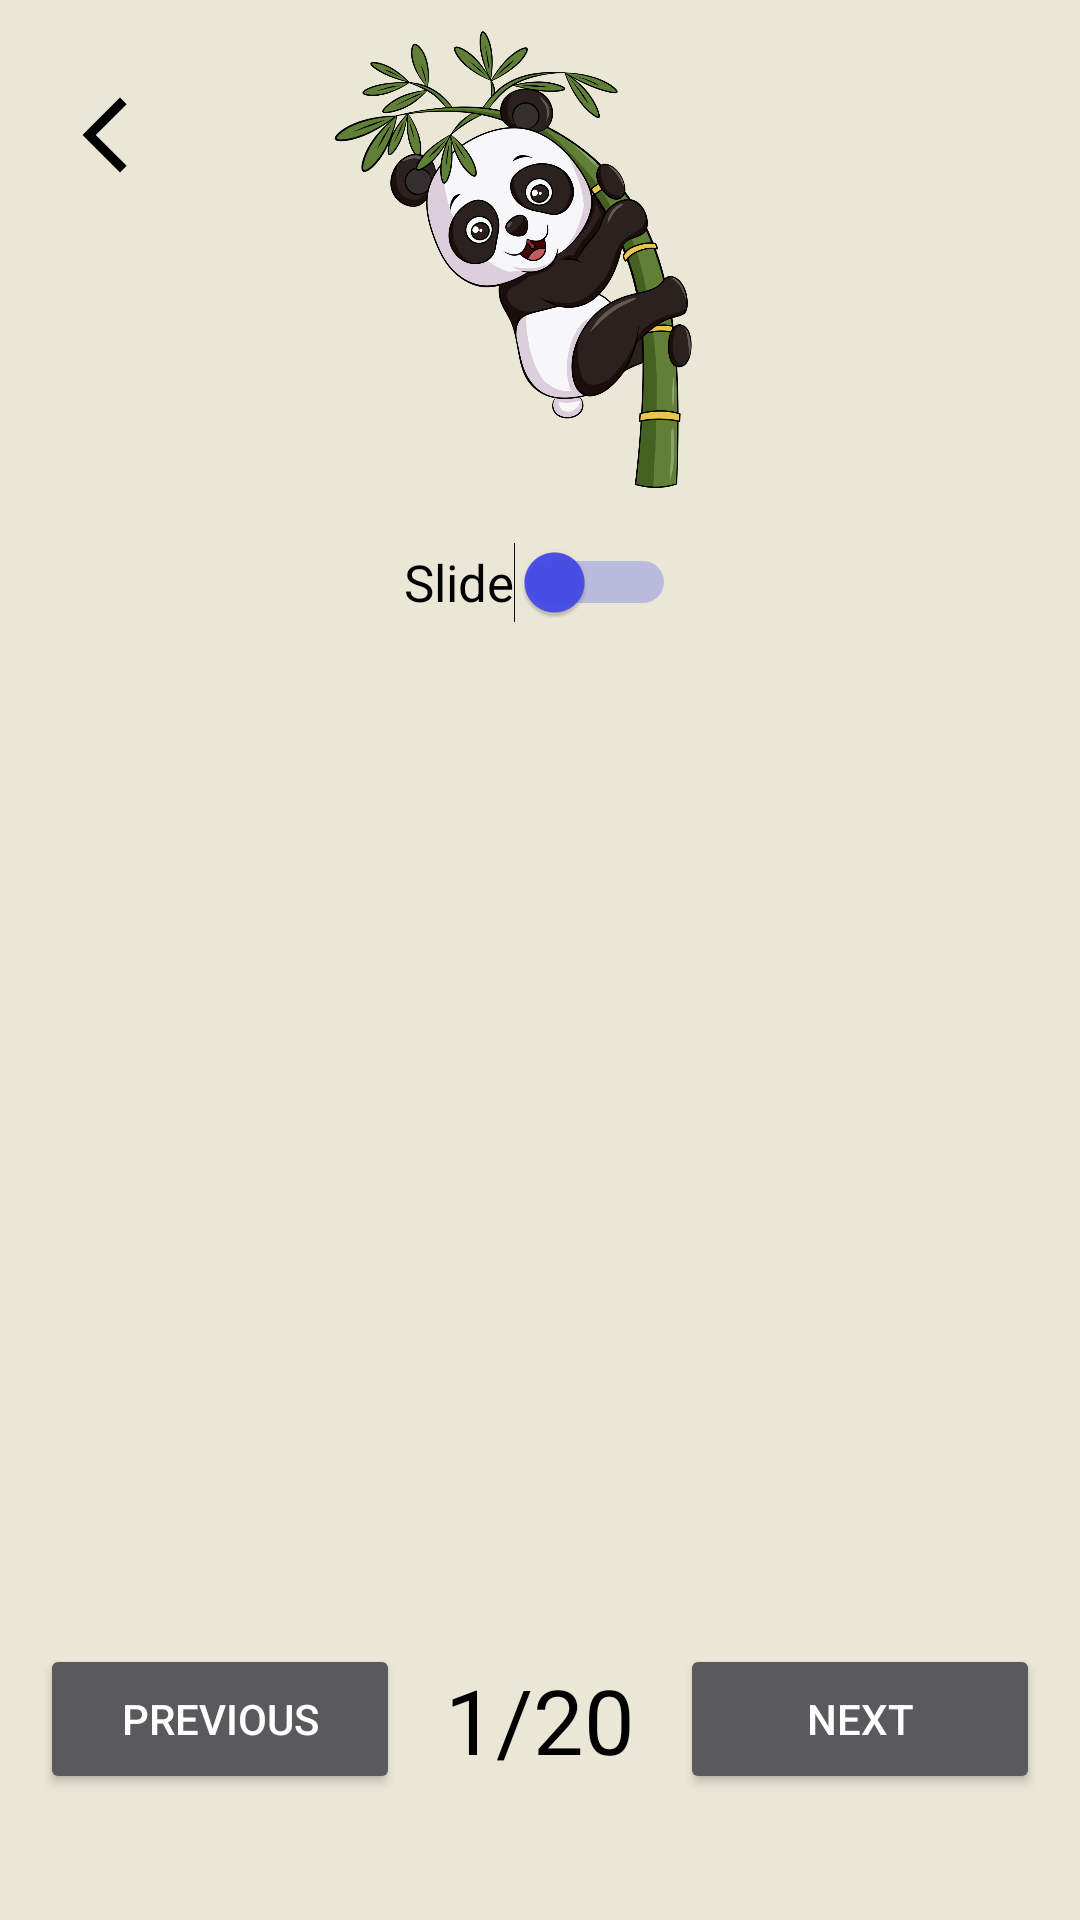

Icon click points for this 1080px×1920px phone screenshot, format point (x, y):
arrow back: point (104, 135)
